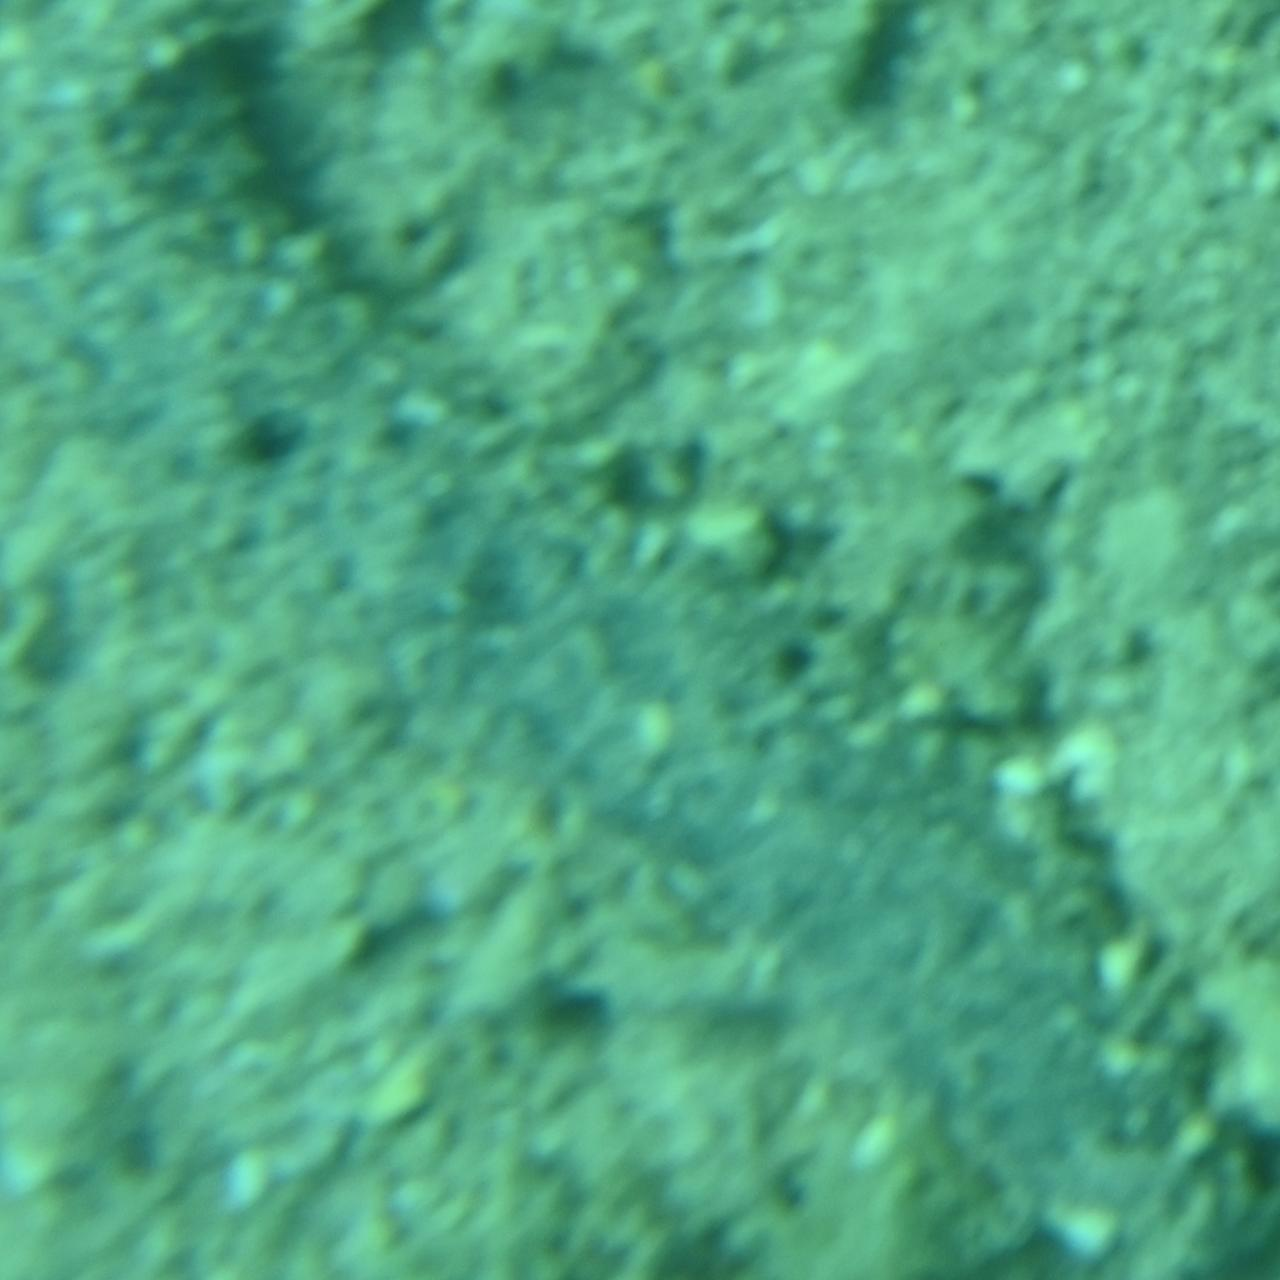Holothuria tubulosa: (40, 0, 1240, 1280)
